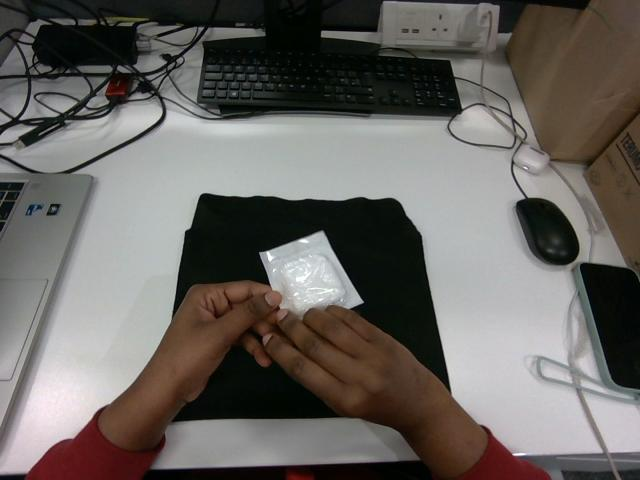gauze: (260, 231, 362, 317)
